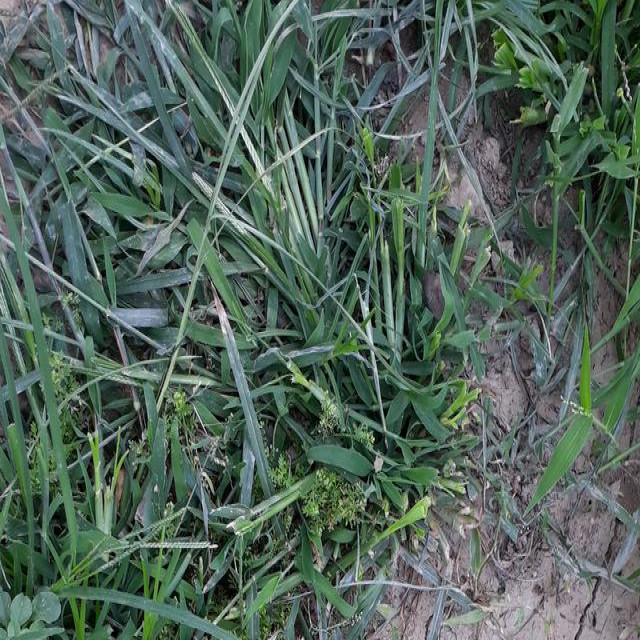weed: (0, 0, 479, 621)
